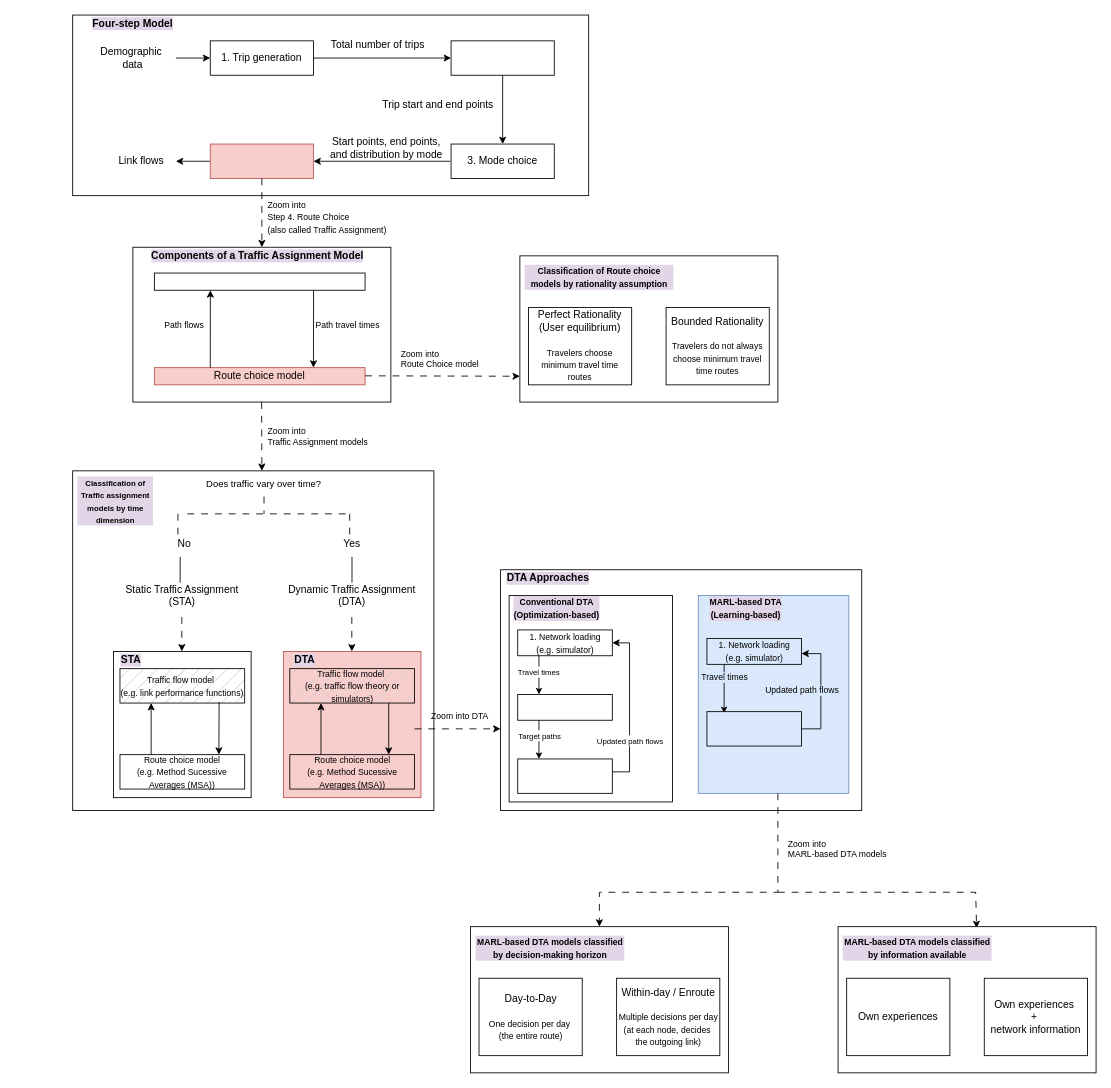
This 1111x1088 diagram has some shape labels left out. The box of each missing label's shape, as (x1, y1, x2, y2) in pixels:
2. Agent policy update (e.g. Bush-Mosteller update rule): (706, 711, 802, 746)
2. Time-dependent shortest path: (517, 694, 612, 720)
2. Trip distribution: (450, 40, 554, 75)
3. Adjust route choices towards equilibrium (e.g. MSA): (517, 758, 612, 793)
4. Route Choice: (209, 143, 313, 178)
Traffic flow model: (154, 272, 365, 290)
